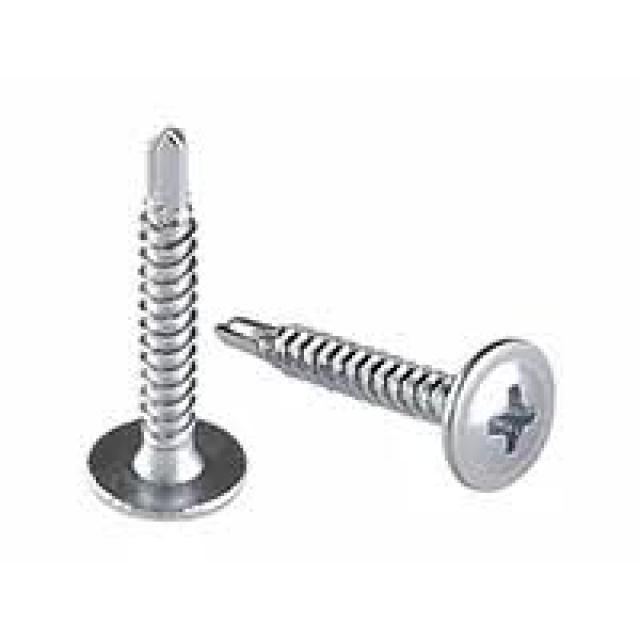Screw: (86, 125, 250, 518), (214, 317, 560, 496)
